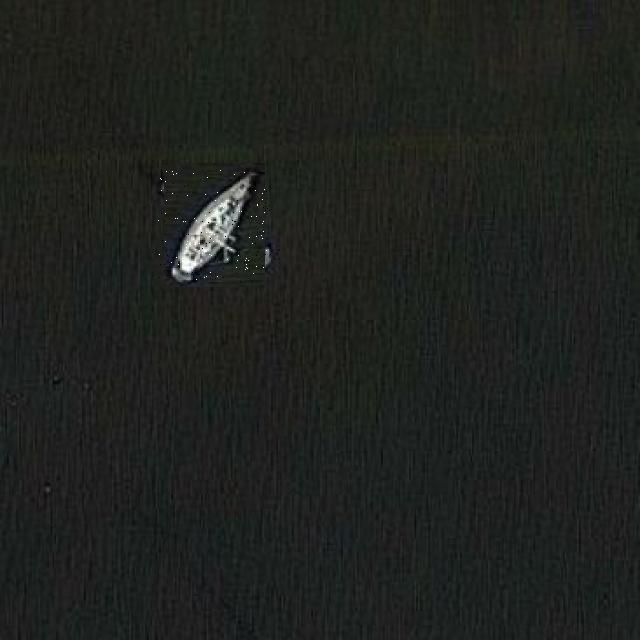boat: (158, 169, 270, 282)
